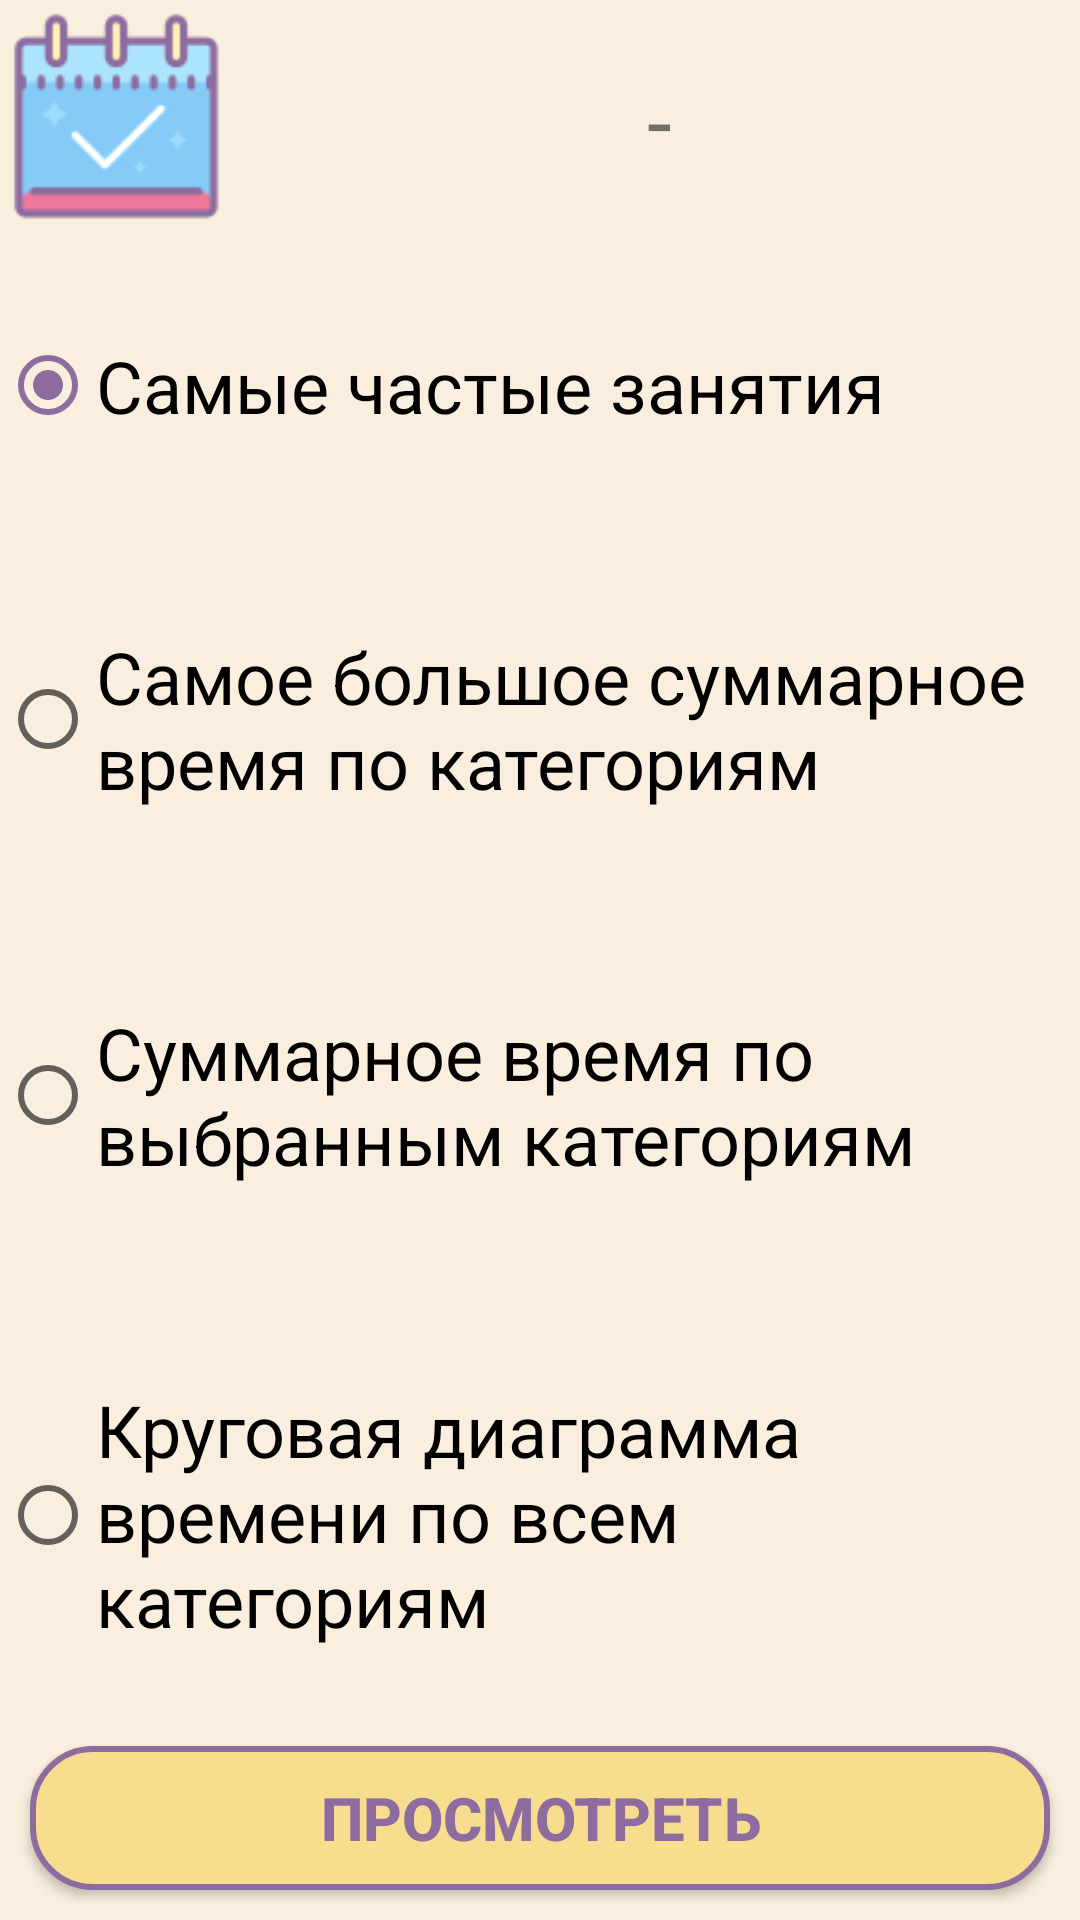

Screen size 1080×1920. Icon name, then its center in pixels as (x,y):
today: (116,116)
